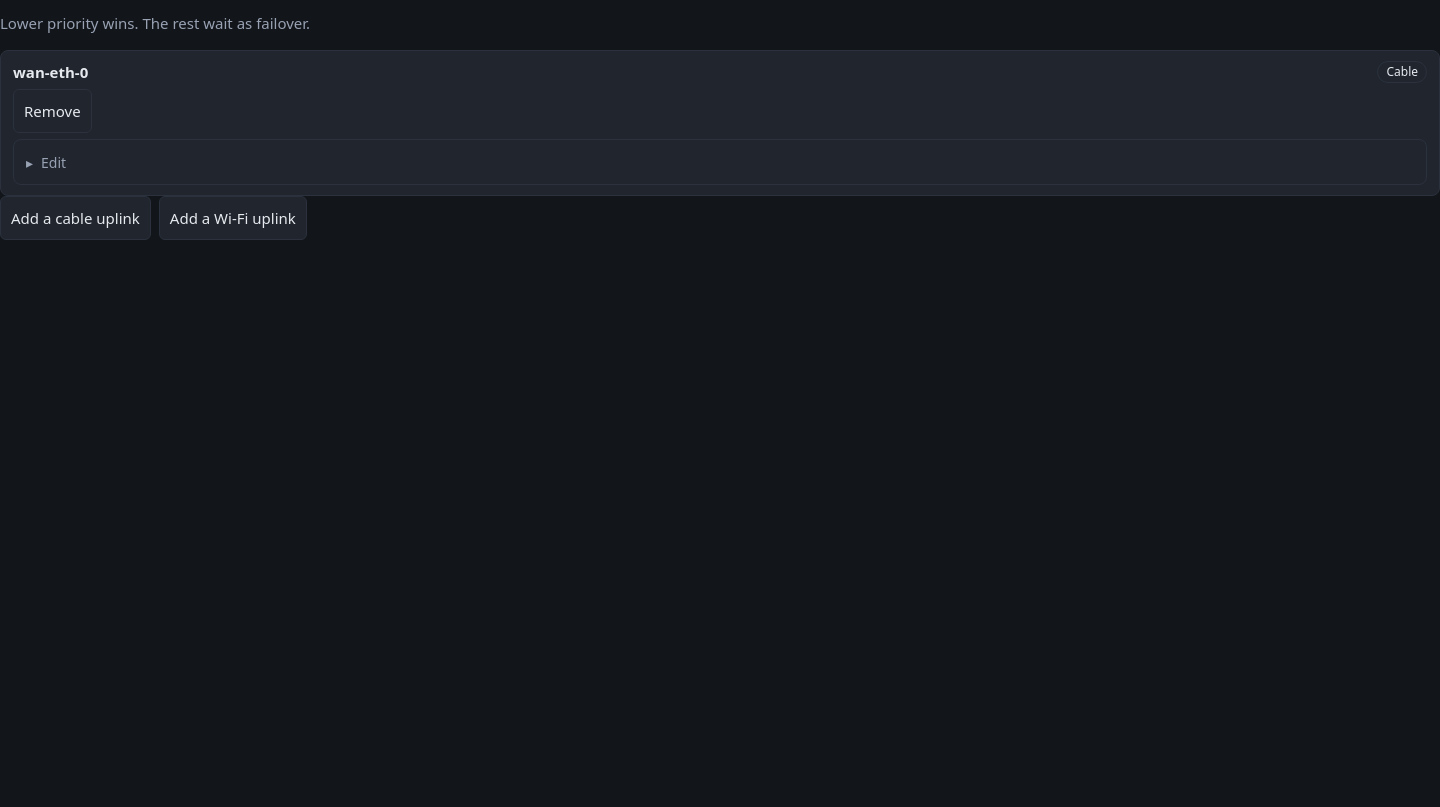
Test: pinning a name, and taking an interface over › asks the same two questions of an uplink, at that uplink’s position
Click the heading "Edit": click(54, 162) [41,152,66,172]
(page scrolled)
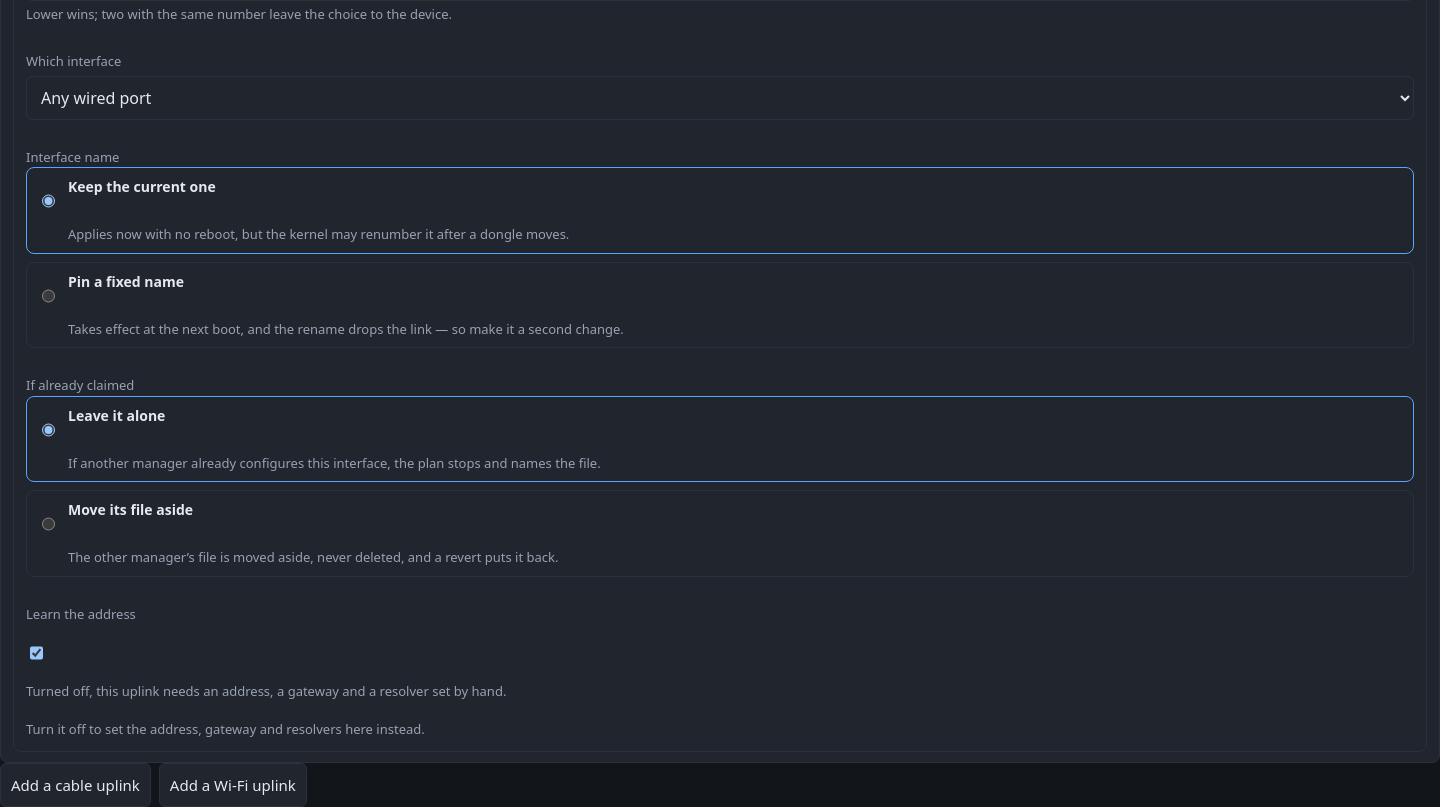
Check: the element that starts with "Interface name" is shown, box [26,148,1414,348]
Check: the element that starts with "If already claimed" is shown, box [26,376,1414,576]
Check: the text "at the next boot" is shown, box [68,320,624,338]
